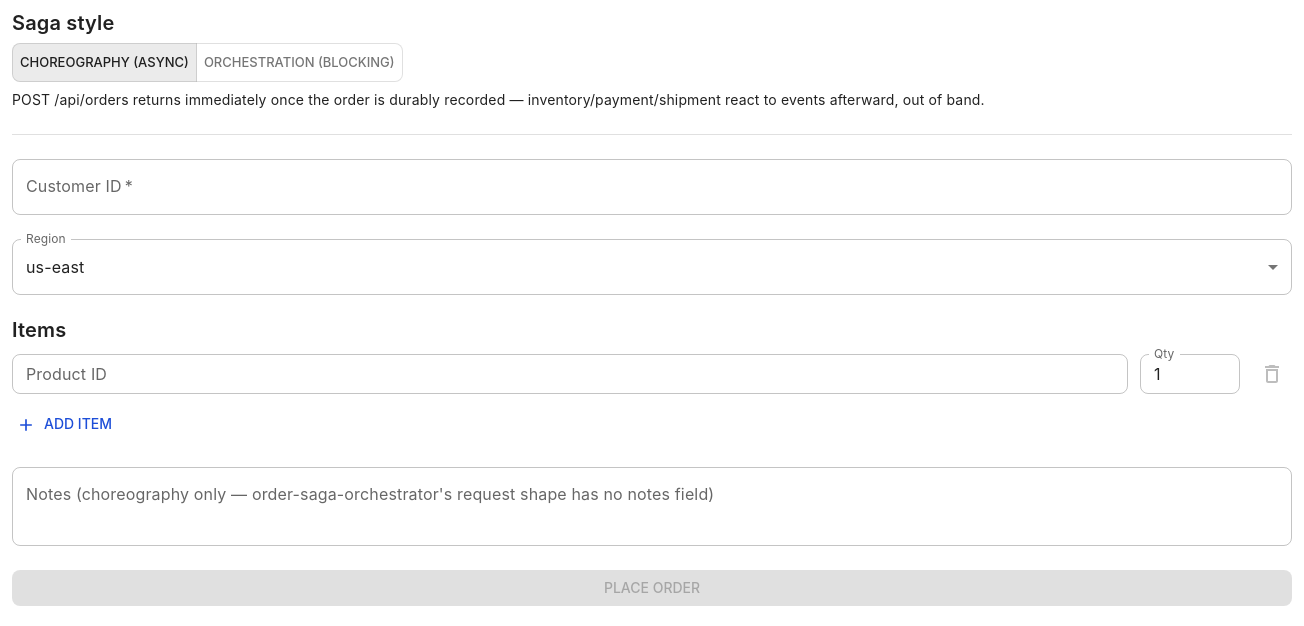
Test case: PlaceOrderForm › disables submit until customerId and every item are filled in
Expected: the button "Place order" is disabled, [12, 570, 1292, 606]
Type "cust-1" into the field labelled "Customer ID *" at (652, 187), box [12, 159, 1292, 215]
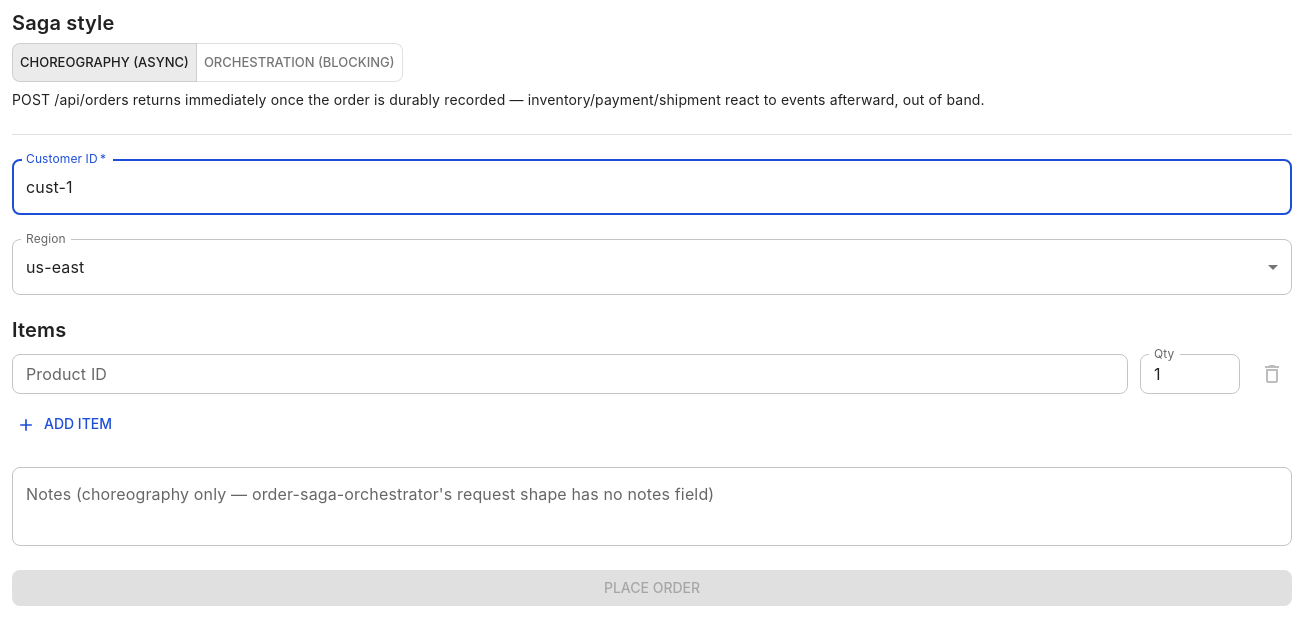
Expected: the button "Place order" is disabled, [12, 570, 1292, 606]
Type "sku-1" into the field labelled "Product ID" at (570, 374), box [12, 354, 1128, 394]
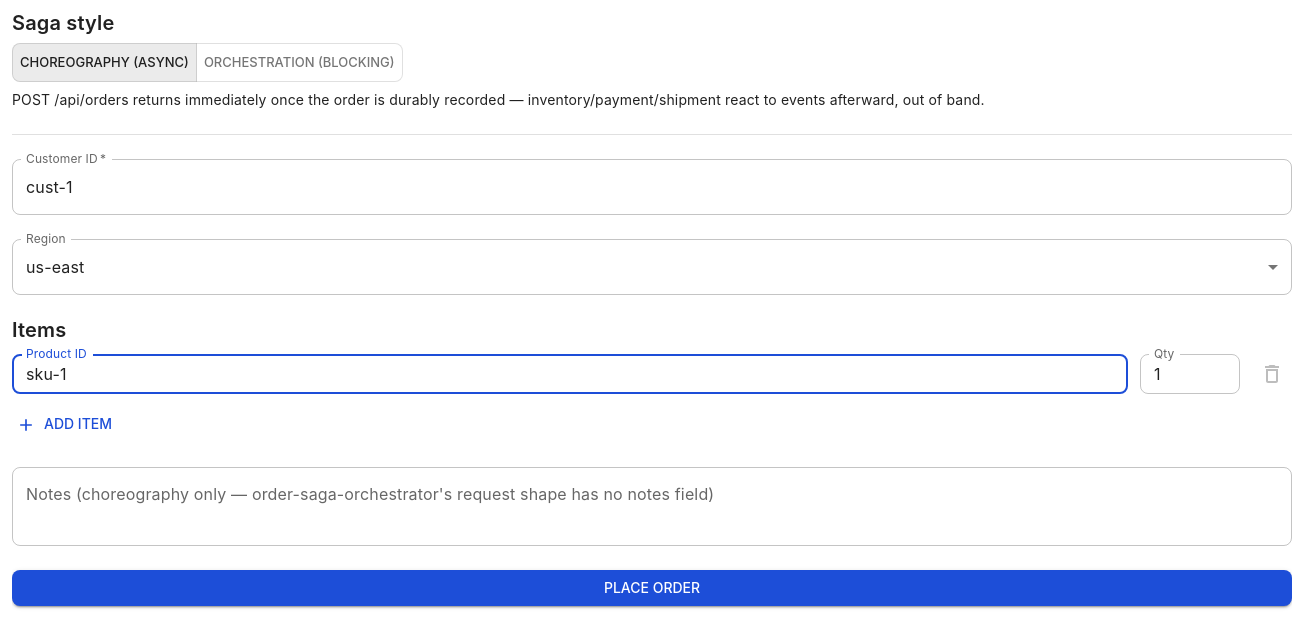
Expected: the button "Place order" is enabled, [12, 570, 1292, 606]
